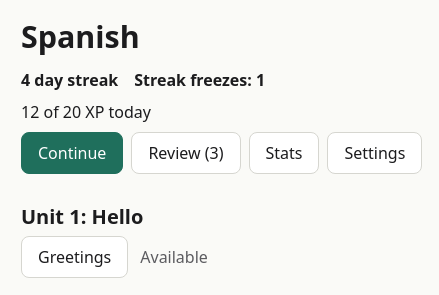
Esc on a screen the path opened › Esc on Reviews returns to the path
The width and height of the screenshot is (439, 295).
Expected: the heading "Spanish" is shown, x1=21 y1=16 x2=140 y2=57
Click the button "Review (3)" at [186, 153], box x1=131 y1=132 x2=240 y2=174
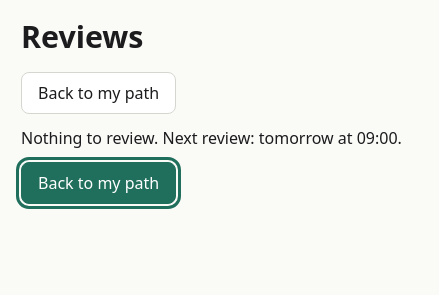
Expected: the heading "Reviews" is shown, x1=21 y1=16 x2=144 y2=57
Expected: the heading "Spanish" is gone
Press Escape in the 2nd button "Back to my path", box x1=21 y1=162 x2=176 y2=204
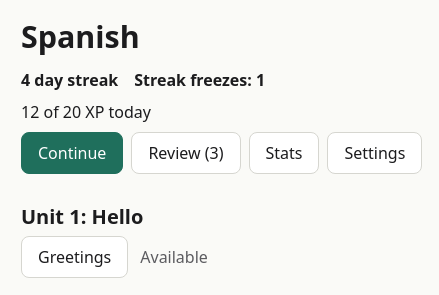
Expected: the heading "Spanish" is shown, x1=21 y1=16 x2=140 y2=57
